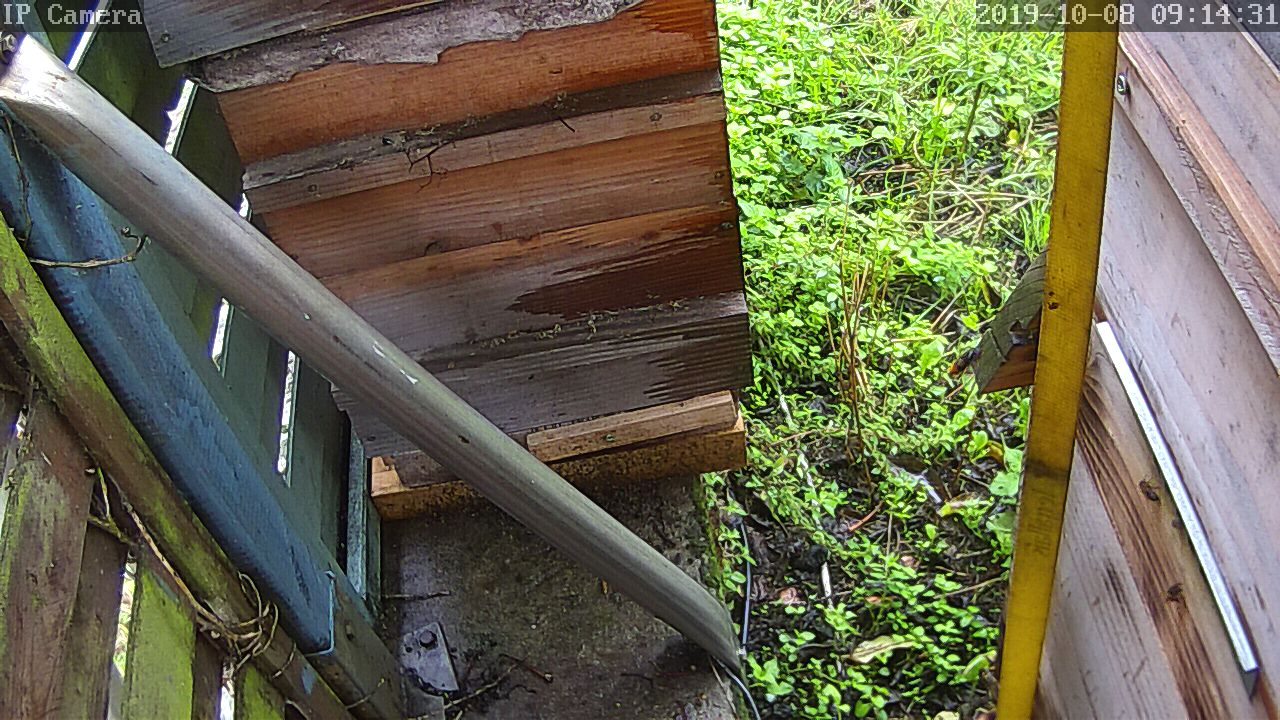bee: (1162, 579, 1193, 611), (1141, 479, 1168, 509)
hornet: (947, 340, 988, 382)
